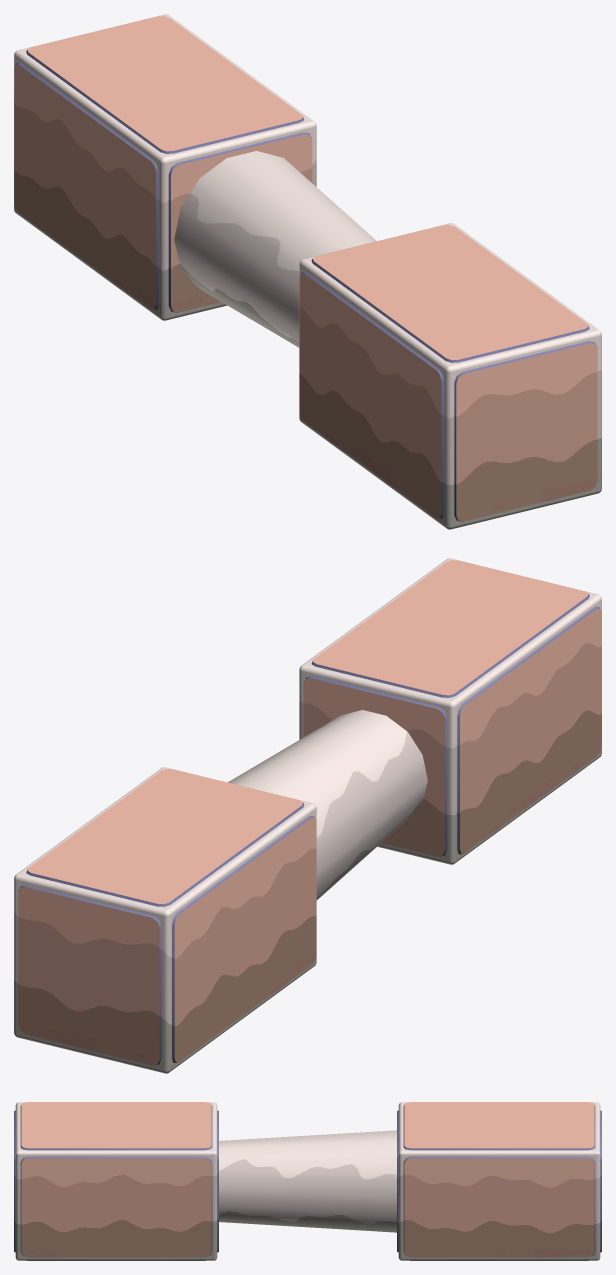
The model's file is R4C_ROD_SHORT.glb.
The picture shows the model from 3 angles, top to bottom: view 1: azimuth 30°, elevation 25°; view 2: azimuth 150°, elevation 25°; view 3: azimuth 270°, elevation 25°; orthographic projection. The views are drawn at different scales.
Visible parts, largest first — view 1: R4C_ROD_SHORT; view 2: R4C_ROD_SHORT; view 3: R4C_ROD_SHORT.
Boxes of the visible parts, x1,y1,x2,y2 form: R4C_ROD_SHORT: (14,14,601,529); R4C_ROD_SHORT: (14,558,601,1073); R4C_ROD_SHORT: (14,1102,601,1260).
Bounding box in the file's own units: 0.226 × 0.226 × 1.07.
Materials: 3 (3 with a texture image).
